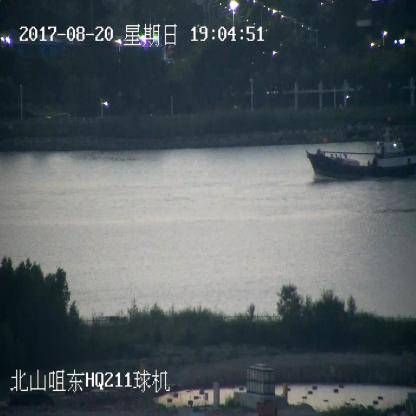Fishing Boat: (308, 135, 416, 180)
